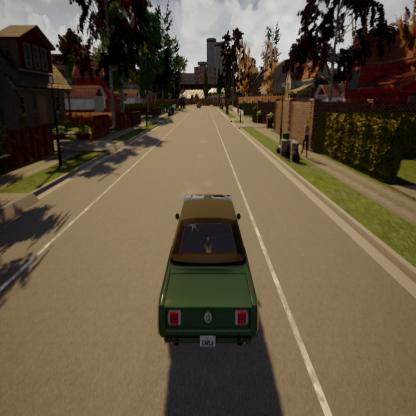Cars: (159, 192, 258, 348)
Pedestrian: (302, 121, 312, 164)
